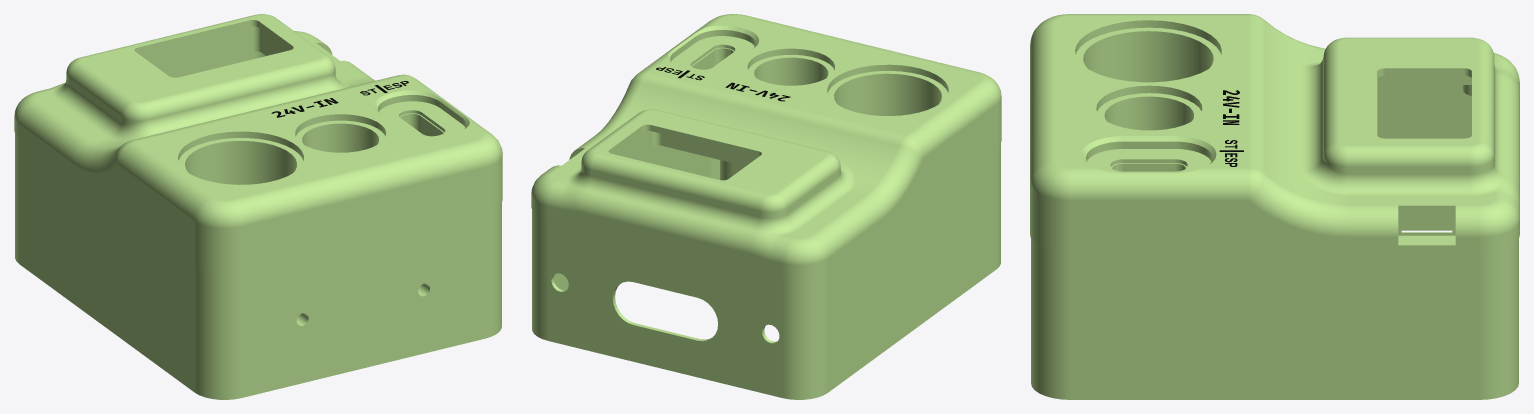
Rendered from Main_CaseButtons.dae.
3 views of the same model, side by side, from view 1: azimuth 30°, elevation 25°; view 2: azimuth 150°, elevation 25°; view 3: azimuth 270°, elevation 25° (orthographic). The views are drawn at different scales.
Visible parts, largest first — view 1: Main_CaseButtons; view 2: Main_CaseButtons; view 3: Main_CaseButtons.
Part boxes in pixels (x1,y1,x2,y2): Main_CaseButtons: (14,14,502,399); Main_CaseButtons: (531,14,1001,399); Main_CaseButtons: (1030,14,1519,399).
Bounding box in the file's own units: 0.05 × 0.06 × 0.03.
